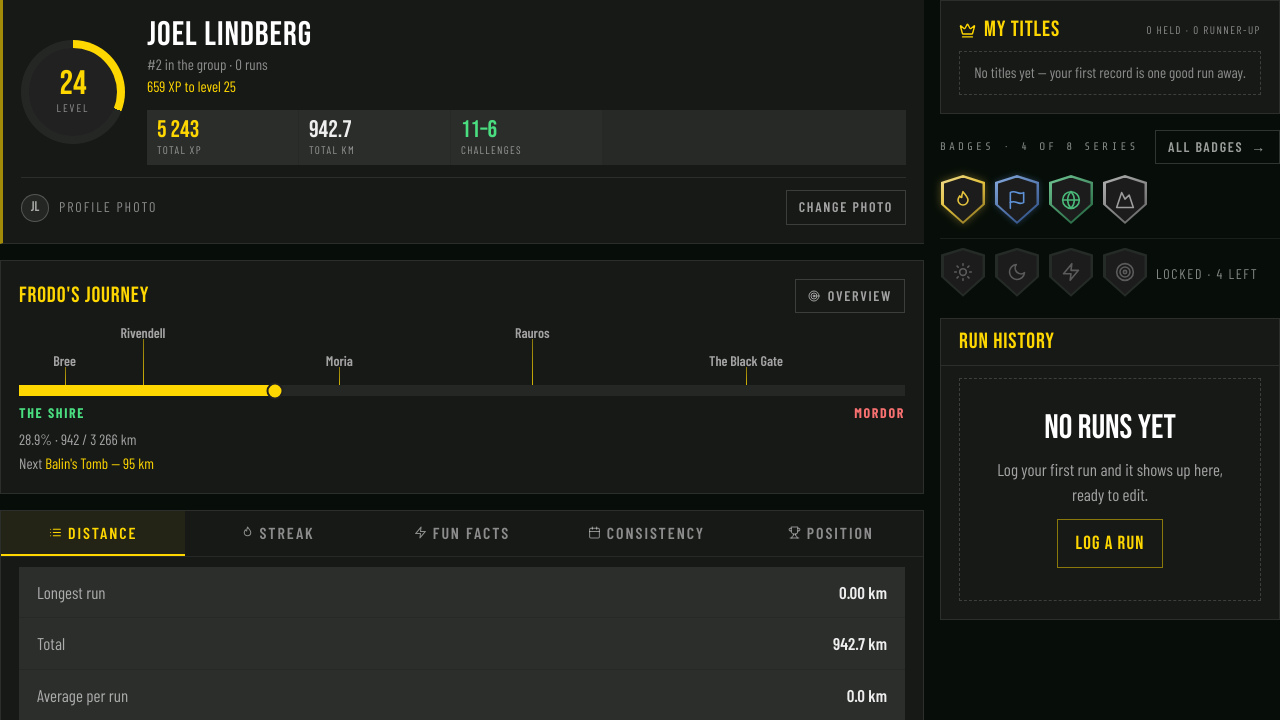
Profile — badge-sammanfattningen (F10) › ett tryck på ett emblem öppnar detaljerna (nivå och krav)
Step 1. Click the button named "Rare Milestoner" → {"x": 1017, "y": 200}, box [994, 174, 1040, 225]
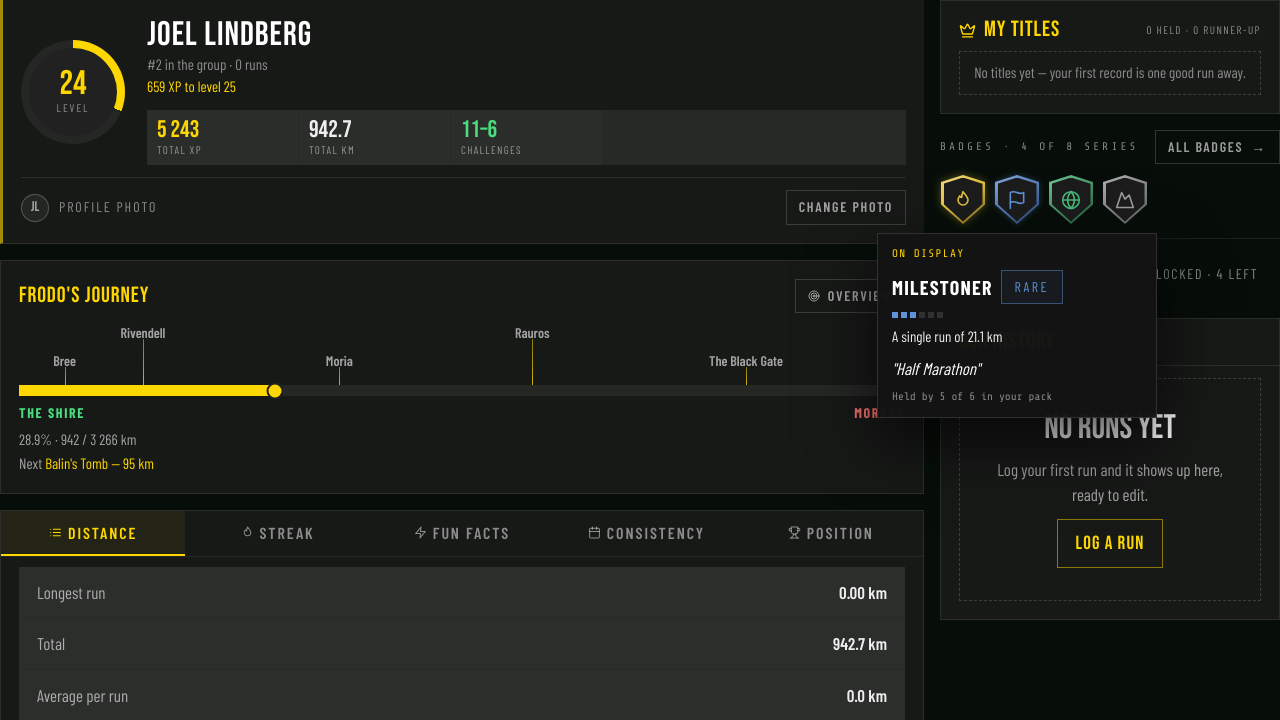
Now the text "Held by 5 of 6 in your pack" is shown, box [892, 389, 1052, 404]
